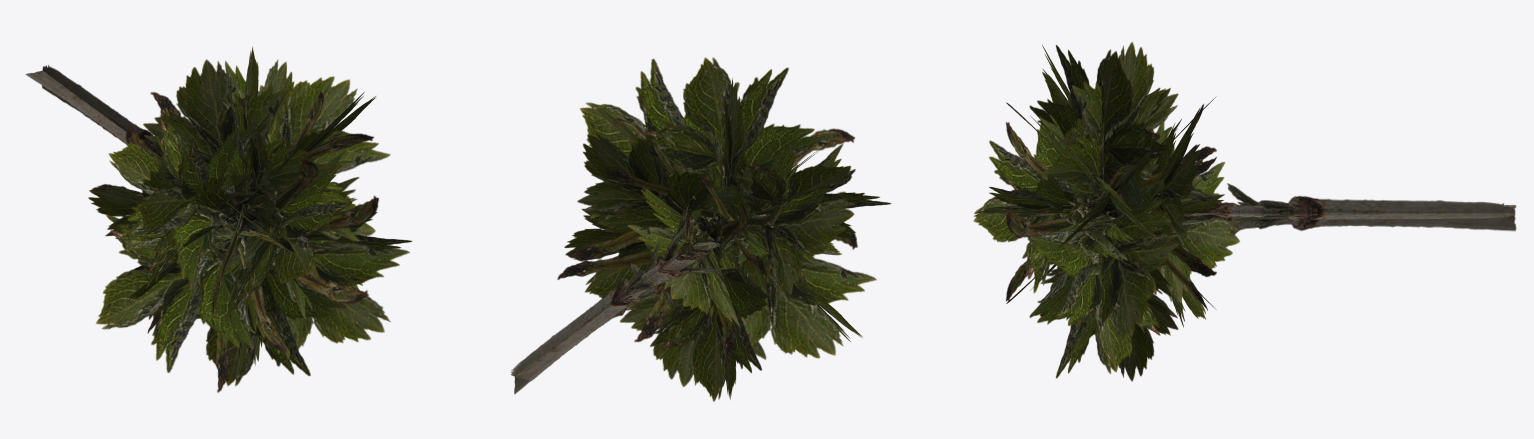
The model's file is Pl_Weed3.glb.
3 views of the same model, side by side, from view 1: azimuth 30°, elevation 25°; view 2: azimuth 150°, elevation 25°; view 3: azimuth 270°, elevation 25° (orthographic).
Parts seen in each view (by area): view 1: tiny_weed_2; view 2: tiny_weed_2; view 3: tiny_weed_2.
Part boxes in pixels (x1,y1,x2,y2): tiny_weed_2: [25, 47, 412, 392]; tiny_weed_2: [511, 57, 891, 401]; tiny_weed_2: [973, 42, 1516, 381].
Bounding box in the file's own units: 0.4458 × 0.45 × 0.6039.
Materials: 1 (1 with a texture image).
